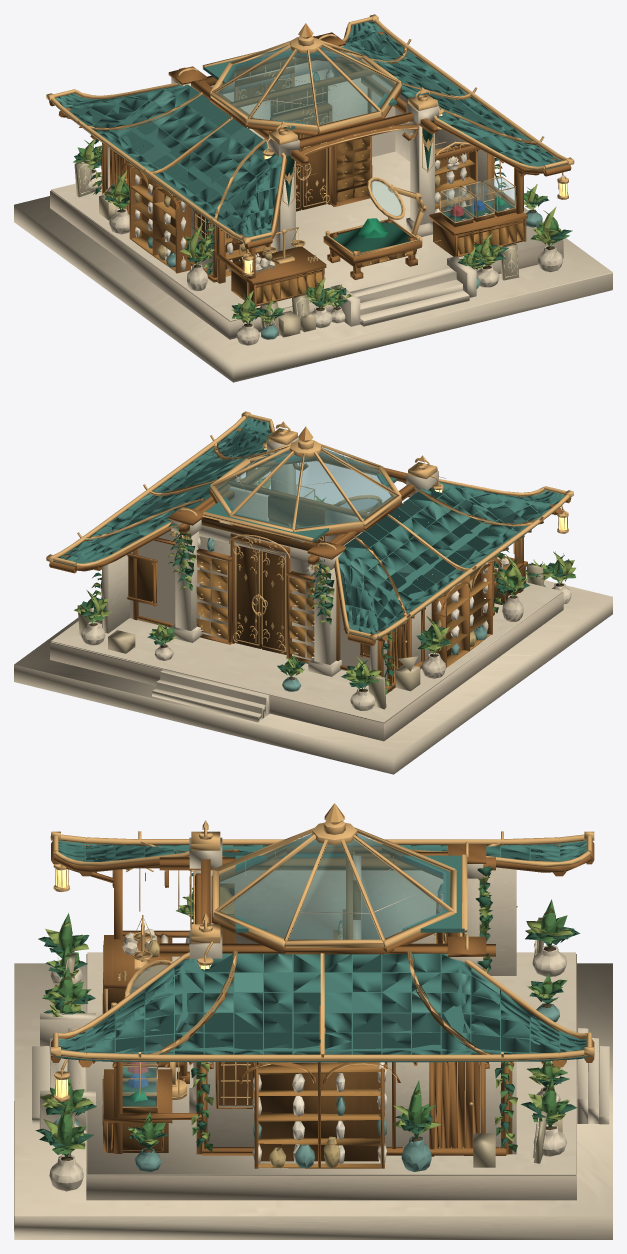
File: appraisal-lod2-e2ad549a6f64.glb
3 views of the same model, one above another, from view 1: azimuth 30°, elevation 25°; view 2: azimuth 150°, elevation 25°; view 3: azimuth 270°, elevation 25° (orthographic). The views are drawn at different scales.
Visible parts, largest first — view 1: SM_APP_MAT_APP_WarmIvory.021, SM_APP_MAT_APP_TealRoof.021, SM_APP_MAT_APP_HoneyTimber.021, SM_APP_MAT_APP_BrassGold_APP_GrandDoorHinge_1.021, SM_APP_MAT_APP_SourceTintCrownGlass, SM_APP_MAT_APP_Walnut_APP_GrandDoorHinge_1.021, SM_APP_MAT_APP_DrawerWood.021, SM_APP_MAT_APP_Limestone.021, SM_APP_MAT_APP_LeafLime.021, SM_APP_MAT_APP_TealRoofAlt.021, SM_APP_MAT_APP_DisplayGlass.021, SM_APP_MAT_APP_EmeraldVelvet.021 (+8 smaller); view 2: SM_APP_MAT_APP_WarmIvory.021, SM_APP_MAT_APP_TealRoof.021, SM_APP_MAT_APP_BrassGold_APP_GrandDoorHinge_1.021, SM_APP_MAT_APP_HoneyTimber.021, SM_APP_MAT_APP_SourceTintCrownGlass, SM_APP_MAT_APP_Walnut_APP_GrandDoorHinge_1.021, SM_APP_MAT_APP_Limestone.021, SM_APP_MAT_APP_DrawerWood.021, SM_APP_MAT_APP_TealRoofAlt.021, SM_APP_MAT_APP_LeafLime.021, SM_APP_MAT_APP_LeafDark.021, SM_APP_MAT_APP_LeafJade.021 (+4 smaller); view 3: SM_APP_MAT_APP_WarmIvory.021, SM_APP_MAT_APP_TealRoof.021, SM_APP_MAT_APP_HoneyTimber.021, SM_APP_MAT_APP_BrassGold_APP_GrandDoorHinge_1.021, SM_APP_MAT_APP_SourceTintCrownGlass, SM_APP_MAT_APP_Limestone.021, SM_APP_MAT_APP_Walnut_APP_GrandDoorHinge_1.021, SM_APP_MAT_APP_LeafJade.021, SM_APP_MAT_APP_DrawerWood.021, SM_APP_MAT_APP_TealRoofAlt.021, SM_APP_MAT_APP_LeafDark.021, SM_APP_MAT_APP_LeafLime.021 (+7 smaller).
Boxes of the visible parts, left/top/right/bottom form: SM_APP_MAT_APP_WarmIvory.021: left=14, top=46, right=612, bottom=382; SM_APP_MAT_APP_TealRoof.021: left=55, top=21, right=567, bottom=243; SM_APP_MAT_APP_HoneyTimber.021: left=49, top=27, right=571, bottom=307; SM_APP_MAT_APP_BrassGold_APP_GrandDoorHinge_1.021: left=46, top=14, right=574, bottom=276; SM_APP_MAT_APP_SourceTintCrownGlass: left=216, top=44, right=394, bottom=125; SM_APP_MAT_APP_Walnut_APP_GrandDoorHinge_1.021: left=141, top=58, right=523, bottom=302; SM_APP_MAT_APP_DrawerWood.021: left=116, top=137, right=523, bottom=303; SM_APP_MAT_APP_Limestone.021: left=50, top=191, right=563, bottom=339; SM_APP_MAT_APP_LeafLime.021: left=80, top=134, right=560, bottom=324; SM_APP_MAT_APP_TealRoofAlt.021: left=56, top=21, right=544, bottom=232; SM_APP_MAT_APP_DisplayGlass.021: left=441, top=177, right=515, bottom=221; SM_APP_MAT_APP_EmeraldVelvet.021: left=285, top=121, right=513, bottom=252; SM_APP_MAT_APP_WarmIvory.021: left=14, top=437, right=612, bottom=774; SM_APP_MAT_APP_TealRoof.021: left=53, top=418, right=564, bottom=640; SM_APP_MAT_APP_BrassGold_APP_GrandDoorHinge_1.021: left=46, top=411, right=573, bottom=688; SM_APP_MAT_APP_HoneyTimber.021: left=49, top=423, right=571, bottom=693; SM_APP_MAT_APP_SourceTintCrownGlass: left=216, top=447, right=394, bottom=528; SM_APP_MAT_APP_Walnut_APP_GrandDoorHinge_1.021: left=128, top=495, right=524, bottom=660; SM_APP_MAT_APP_Limestone.021: left=50, top=592, right=563, bottom=741; SM_APP_MAT_APP_DrawerWood.021: left=196, top=554, right=491, bottom=669; SM_APP_MAT_APP_TealRoofAlt.021: left=63, top=422, right=547, bottom=634; SM_APP_MAT_APP_LeafLime.021: left=74, top=478, right=575, bottom=688; SM_APP_MAT_APP_LeafDark.021: left=80, top=478, right=569, bottom=688; SM_APP_MAT_APP_LeafJade.021: left=80, top=498, right=575, bottom=694; SM_APP_MAT_APP_WarmIvory.021: left=14, top=837, right=612, bottom=1239; SM_APP_MAT_APP_TealRoof.021: left=56, top=840, right=589, bottom=1062; SM_APP_MAT_APP_HoneyTimber.021: left=51, top=840, right=594, bottom=1168; SM_APP_MAT_APP_BrassGold_APP_GrandDoorHinge_1.021: left=50, top=803, right=594, bottom=1158; SM_APP_MAT_APP_SourceTintCrownGlass: left=219, top=833, right=446, bottom=946; SM_APP_MAT_APP_Limestone.021: left=86, top=954, right=576, bottom=1200; SM_APP_MAT_APP_Walnut_APP_GrandDoorHinge_1.021: left=107, top=880, right=506, bottom=1161; SM_APP_MAT_APP_LeafJade.021: left=42, top=884, right=569, bottom=1158; SM_APP_MAT_APP_DrawerWood.021: left=105, top=887, right=488, bottom=1168; SM_APP_MAT_APP_TealRoofAlt.021: left=58, top=842, right=586, bottom=1054; SM_APP_MAT_APP_LeafDark.021: left=35, top=866, right=579, bottom=1148; SM_APP_MAT_APP_LeafLime.021: left=40, top=875, right=572, bottom=1152.
Size of the model in its own units: 9.99 by 5.72 by 9.99.
Materials: 28 (6 with a texture image).
